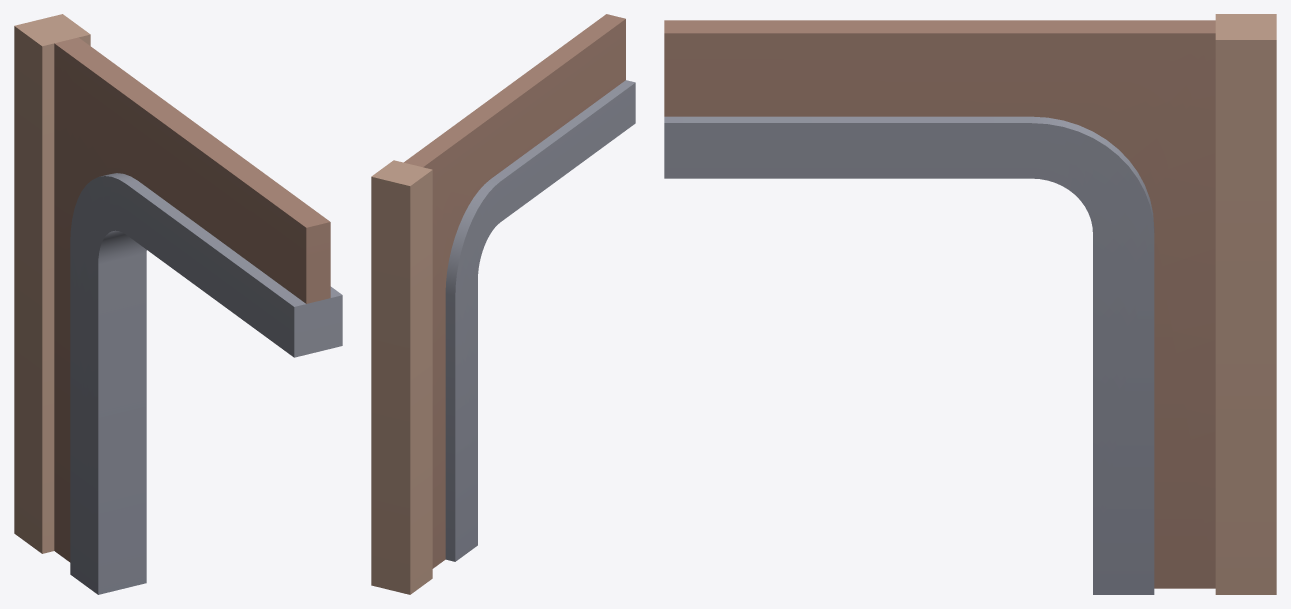
Rendered from wall-wood-doorway-square-wide-curved.glb.
The picture shows the model from 3 angles, left to right: view 1: azimuth 30°, elevation 25°; view 2: azimuth 150°, elevation 25°; view 3: azimuth 270°, elevation 25°; orthographic projection. The views are drawn at different scales.
Visible parts, largest first — view 1: wall-wood-doorway-square-wide-curved; view 2: wall-wood-doorway-square-wide-curved; view 3: wall-wood-doorway-square-wide-curved.
Part boxes in pixels (x1=…): wall-wood-doorway-square-wide-curved: x1=14, y1=14, x2=342, y2=594; wall-wood-doorway-square-wide-curved: x1=371, y1=14, x2=635, y2=594; wall-wood-doorway-square-wide-curved: x1=664, y1=14, x2=1276, y2=594.
Bounding box in the file's own units: 0.1 × 1 × 1.
